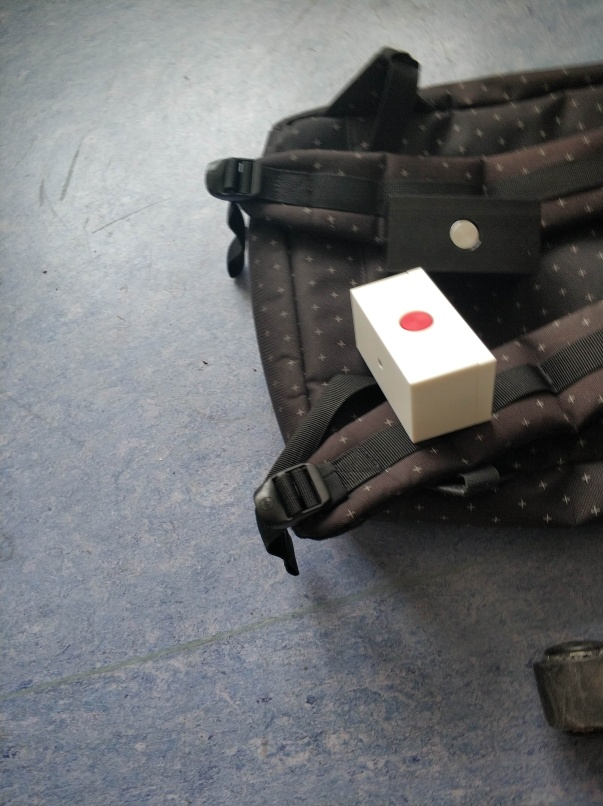black+black+silver: (382, 192, 545, 277)
white+white+red: (347, 264, 497, 446)
